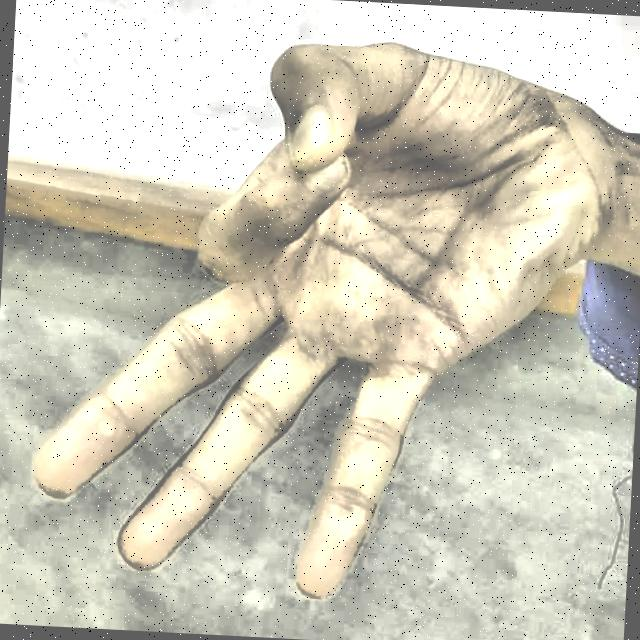Fa: (21, 4, 612, 633)
